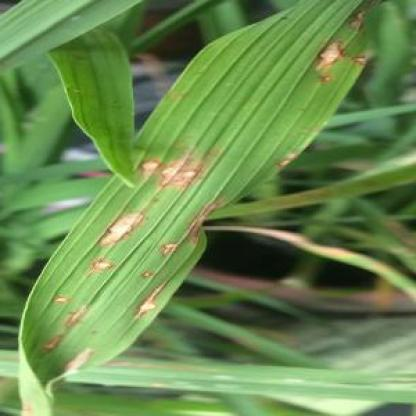Rice blast: (130, 151, 209, 195), (94, 206, 149, 258), (43, 299, 83, 356), (128, 280, 162, 327), (316, 37, 346, 87)
